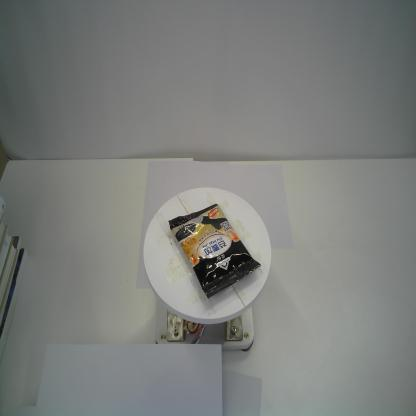Instant Drink: (168, 203, 261, 299)
